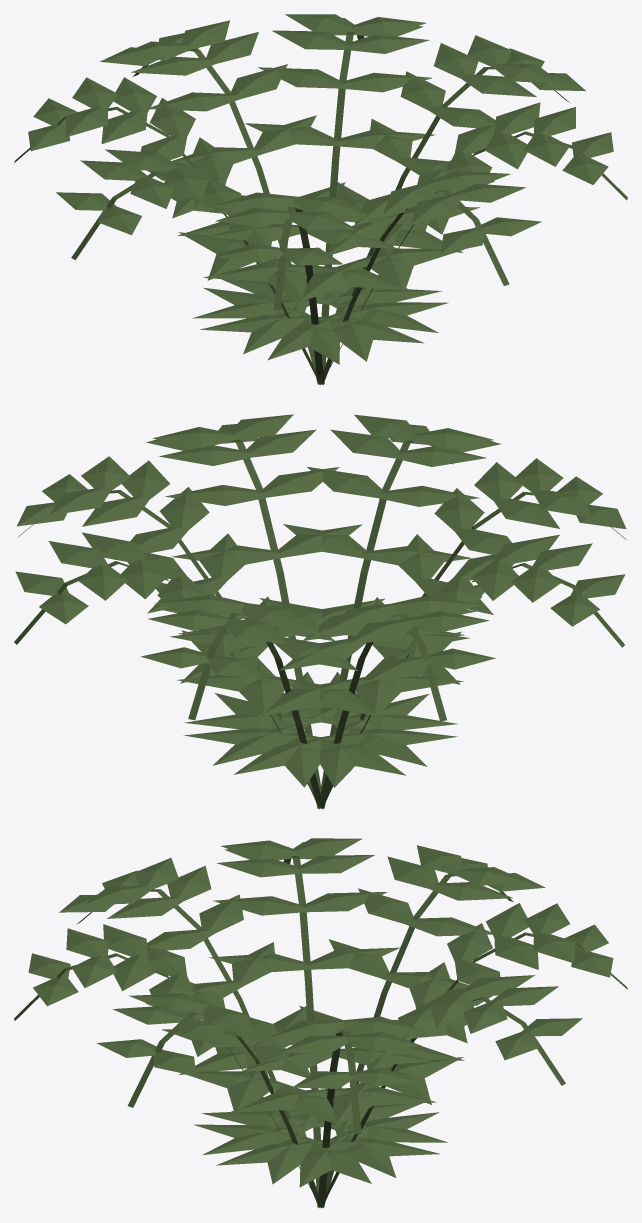
File: ground_fern_a.glb
3 views of the same model, one above another, from view 1: azimuth 30°, elevation 25°; view 2: azimuth 150°, elevation 25°; view 3: azimuth 270°, elevation 25° (orthographic). The views are drawn at different scales.
Parts seen in each view (by area): view 1: ground_fern_a; view 2: ground_fern_a; view 3: ground_fern_a.
Boxes of the visible parts, box(x1,y1,x2,y2) form: ground_fern_a: box(14, 14, 627, 385); ground_fern_a: box(14, 414, 626, 809); ground_fern_a: box(14, 838, 627, 1208).
Bounding box in the file's own units: 0.6761 × 0.3235 × 0.6761.
